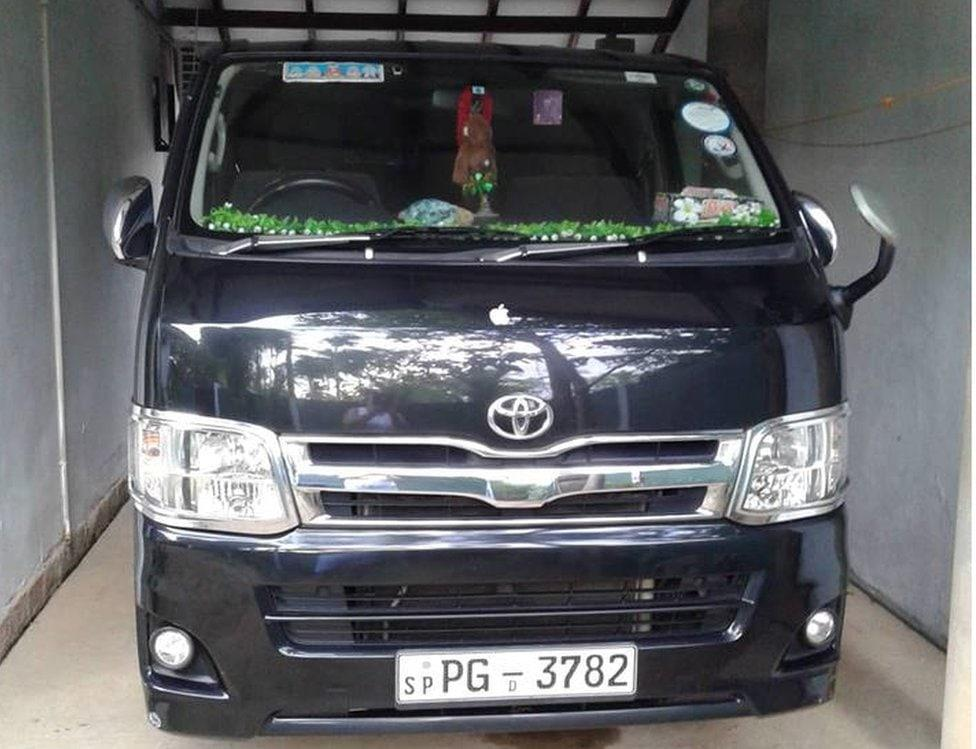license-plate: (397, 645, 637, 696)
